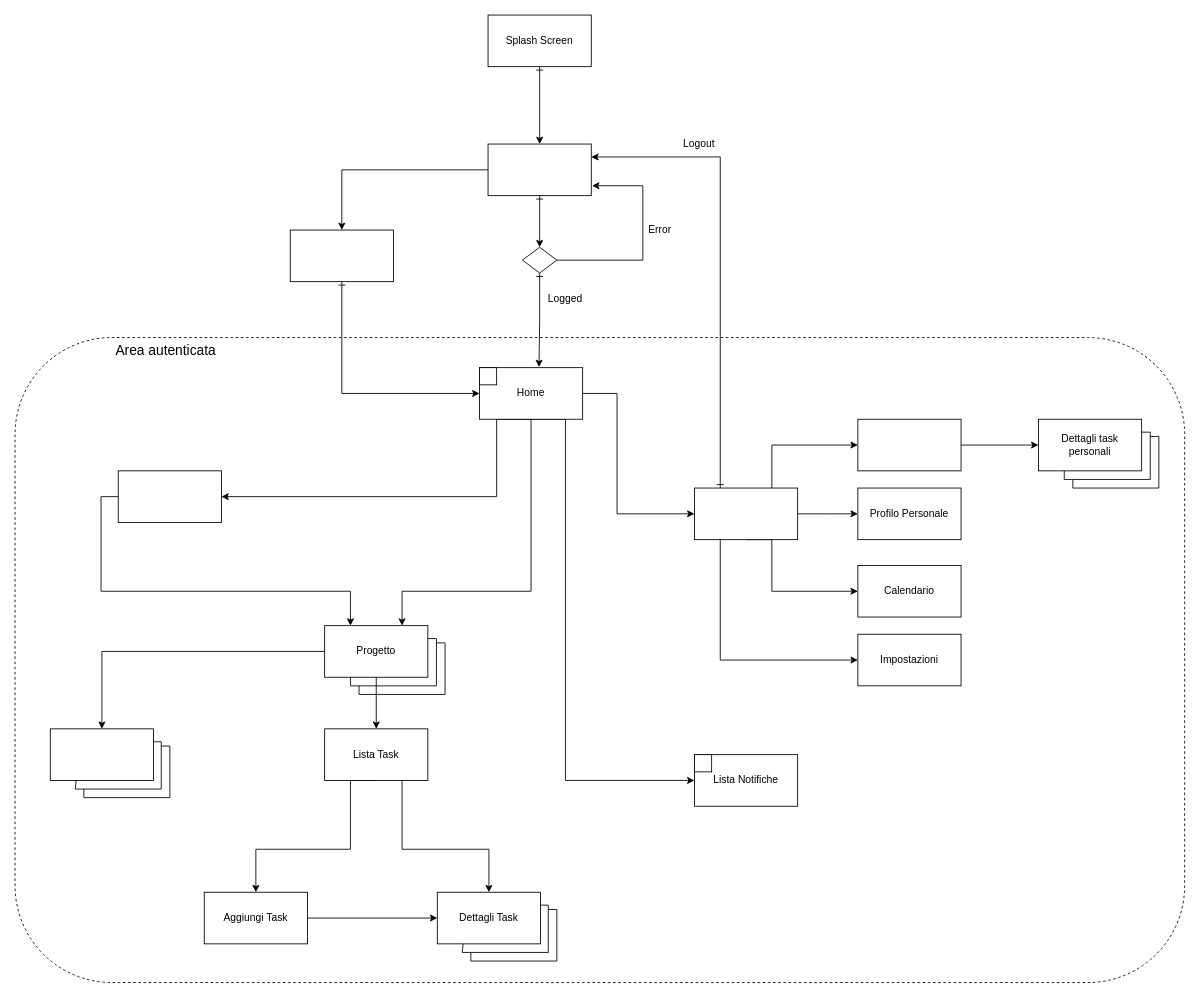
Some shapes in this 1200 by 998 pixel diagram are drawn without their labels. Each missing label, with the centre of its shape:
"Aggiungi Progetto" belongs at point 169,496.
"Login" belongs at point 539,169.
"Menù Laterale" belongs at point 746,513.
"Profilo Membro" belongs at point 101,754.
"Progetti/Task personali" belongs at point 909,444.
"Registrazione" belongs at point 341,255.
